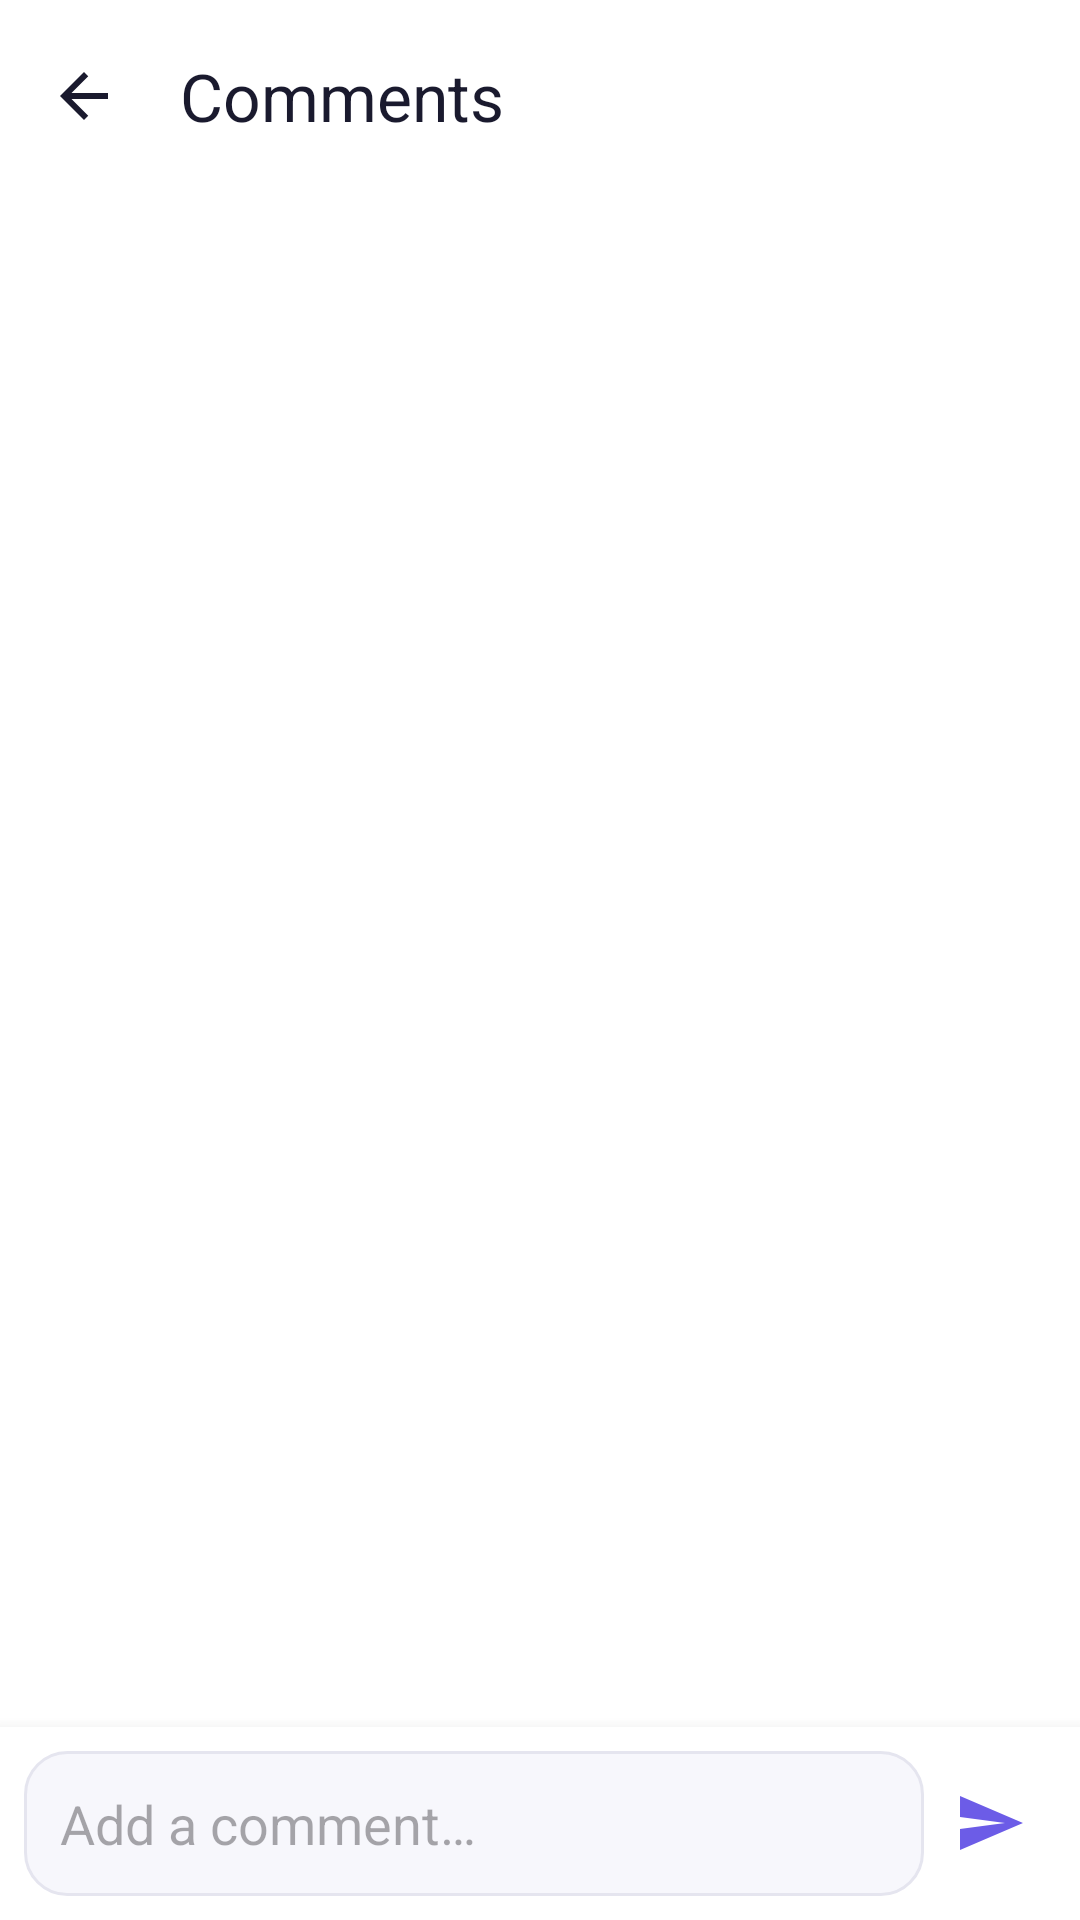

Screen size 1080 x 1920. Icon name, then its center in pixels as point (x, y):
send: point (991, 1823)
